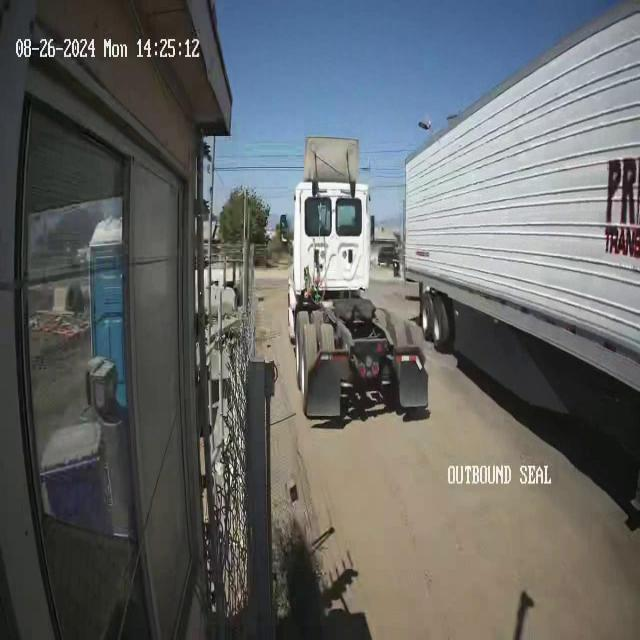BOBTAIL: (287, 135, 429, 421)
TRUCK_CONTAINER: (403, 0, 639, 393)
